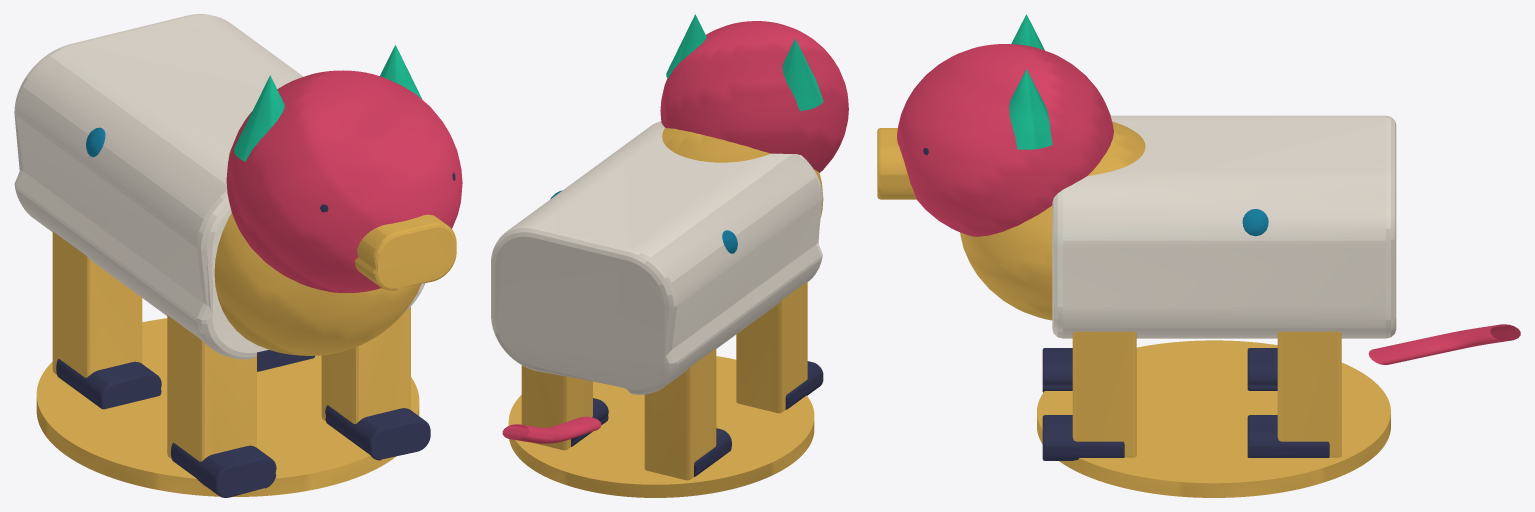
The model's file is 1292_爬行动物图鉴_网纹蟒.glb.
3 renders of one model, left to right at view 1: azimuth 30°, elevation 25°; view 2: azimuth 150°, elevation 25°; view 3: azimuth 270°, elevation 25°, orthographic. The views are drawn at different scales.
Parts seen in each view (by area): view 1: card_1292; view 2: card_1292; view 3: card_1292.
Part boxes in pixels (x1,y1,x2,y2): card_1292: [14, 14, 462, 497]; card_1292: [491, 14, 848, 497]; card_1292: [877, 14, 1520, 497].
Size of the model in its own units: 0.7949 by 1 by 1.51.
